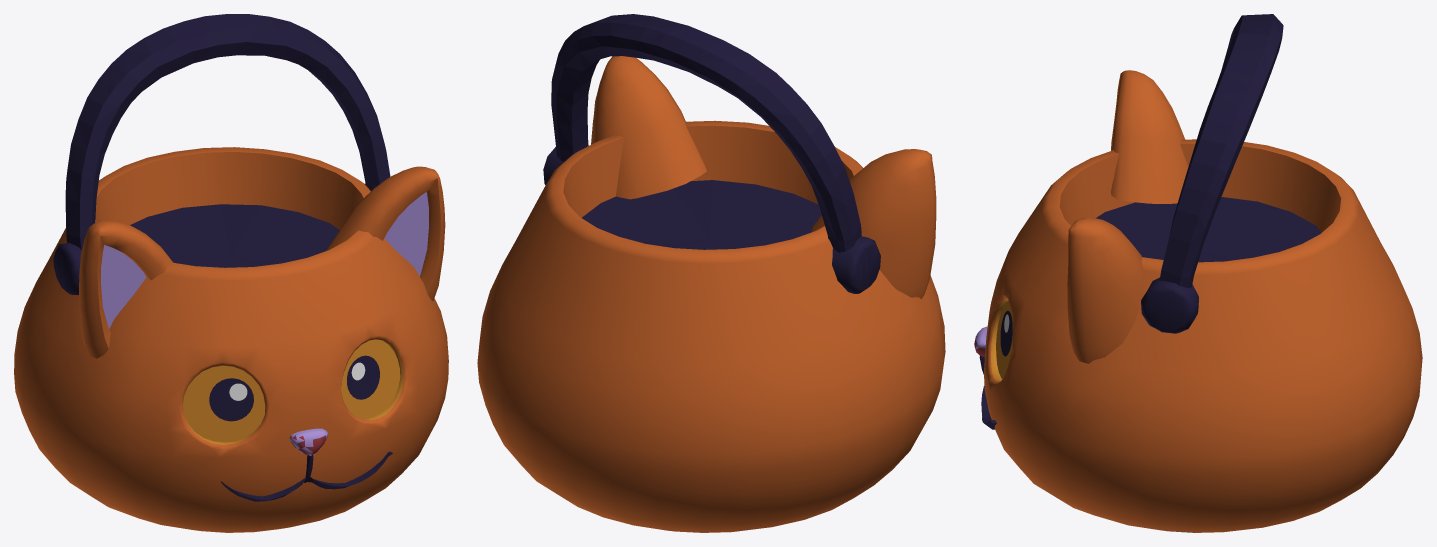
Rendered from EVHalloween_PumpkinTreatPail_Variant1.fbx.
The picture shows the model from 3 angles, left to right: view 1: azimuth 30°, elevation 25°; view 2: azimuth 150°, elevation 25°; view 3: azimuth 270°, elevation 25°; orthographic projection. The views are drawn at different scales.
Visible parts, largest first — view 1: EVHalloween_Decor_PumpkinOrange; view 2: EVHalloween_Decor_PumpkinOrange; view 3: EVHalloween_Decor_PumpkinOrange.
Boxes of the visible parts, x1,y1,x2,y2 form: EVHalloween_Decor_PumpkinOrange: (14, 14, 448, 532); EVHalloween_Decor_PumpkinOrange: (477, 14, 945, 532); EVHalloween_Decor_PumpkinOrange: (974, 14, 1422, 532).
Size of the model in its own units: 30.91 by 34.3 by 31.16.
